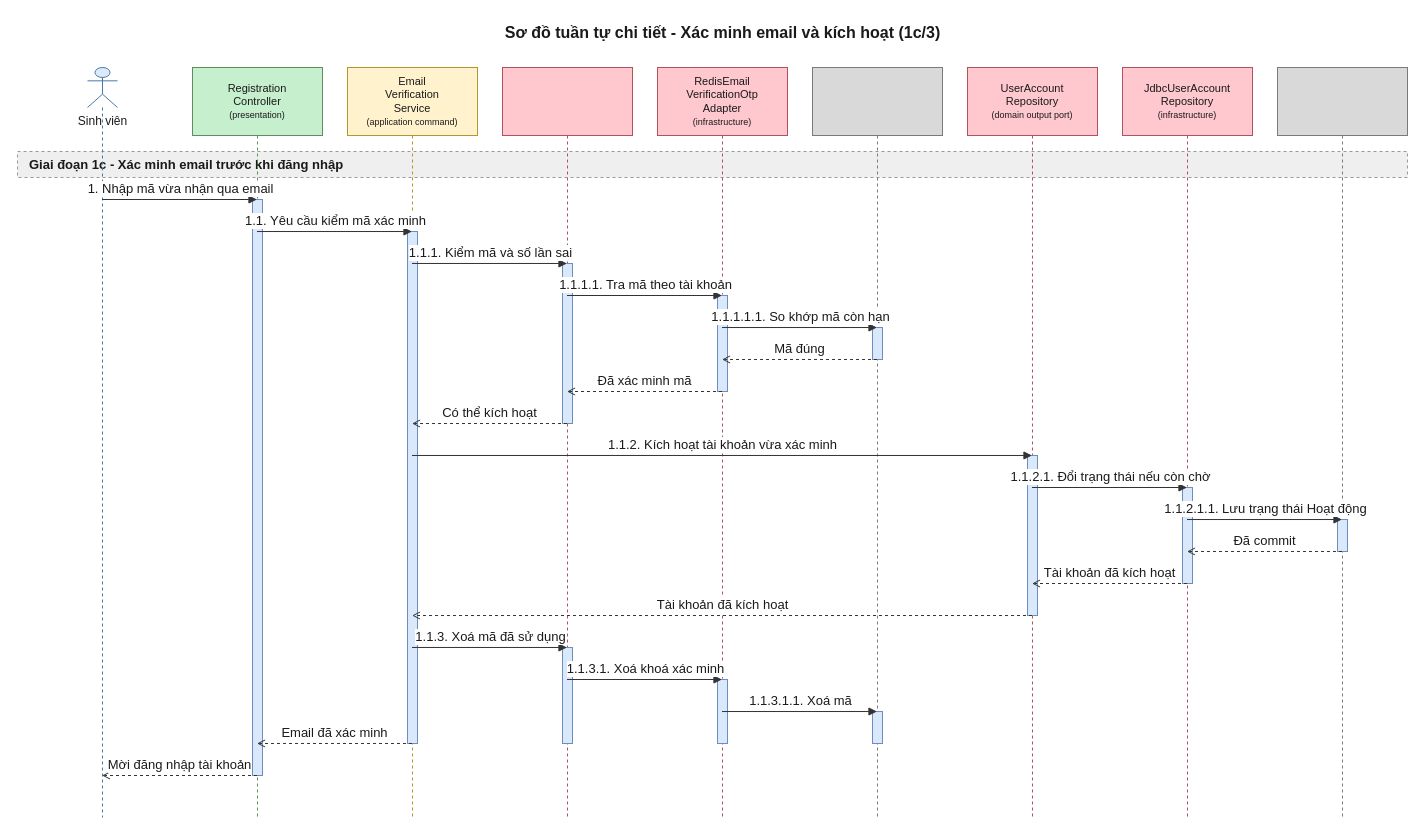
This 1425x835 diagram has some shape labels left out. Here are the shapes that lost their labels. From the top down, the box of each, then its label:
(502, 66, 632, 818): Email VerificationOtp Port (output port)
(812, 66, 942, 818): Redis (OTP email)
(1276, 66, 1408, 818): PostgreSQL (schema identity)
